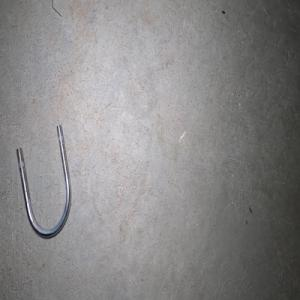ClampPart: (15, 123, 71, 239)
